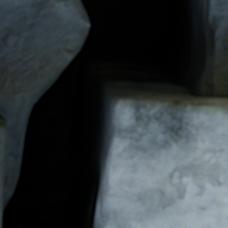brick: (95, 96, 227, 227), (0, 118, 7, 223)
crack: (0, 0, 226, 227)
